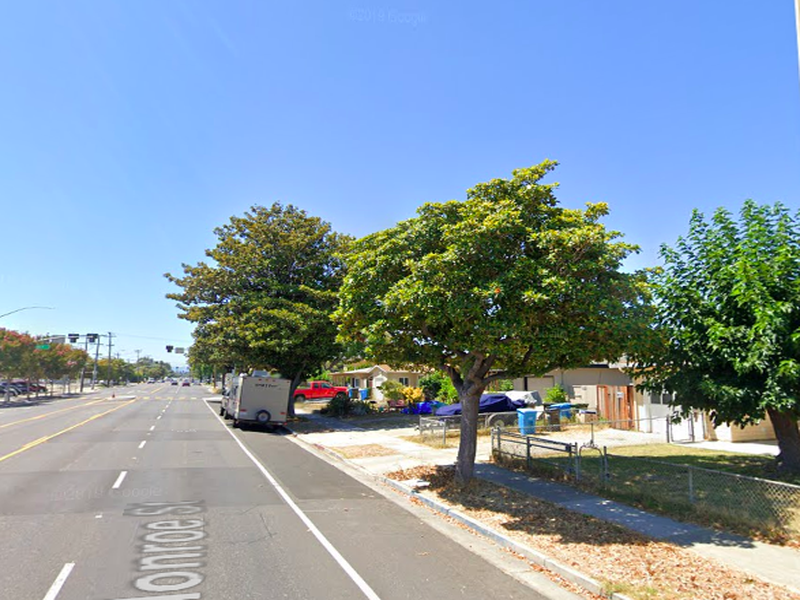tree: (326, 154, 645, 488), (629, 196, 800, 480), (162, 195, 353, 426)
